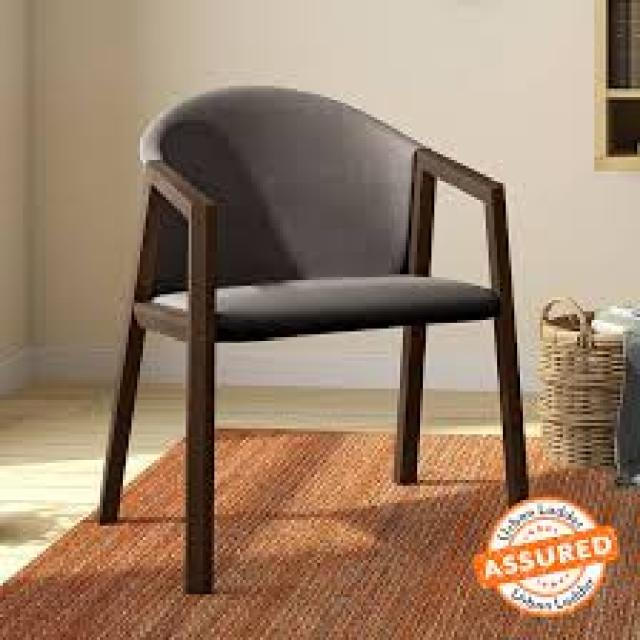chair: (71, 69, 549, 602)
